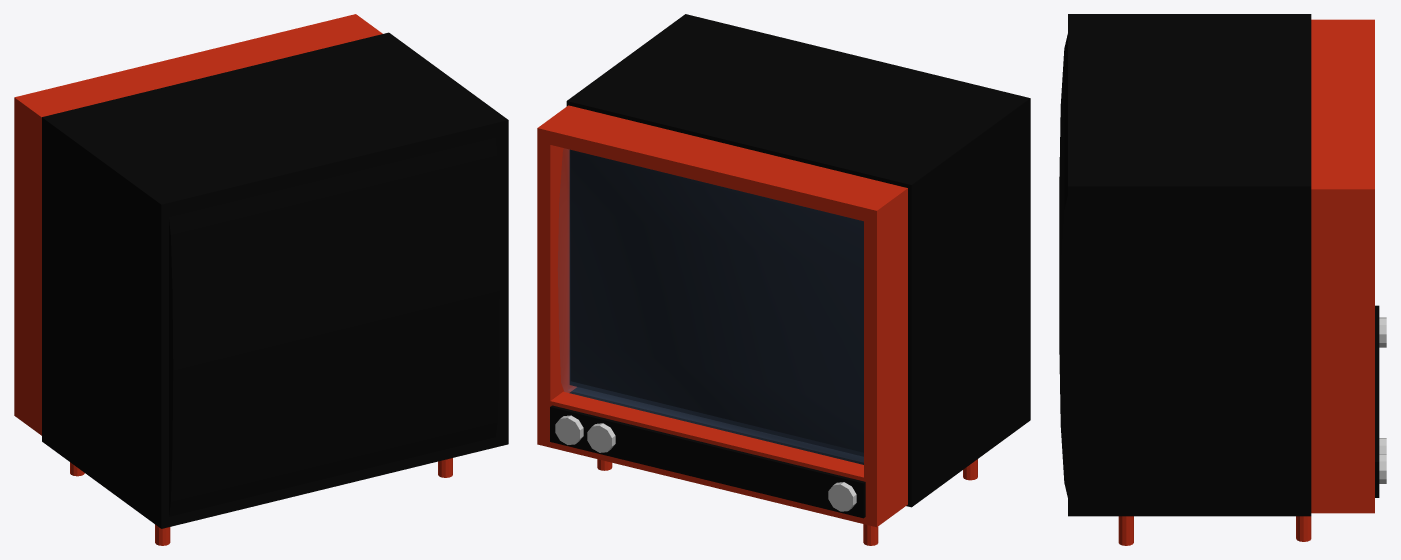
Rendered from OLD_TV.obj.
3 renders of one model, left to right at view 1: azimuth 30°, elevation 25°; view 2: azimuth 150°, elevation 25°; view 3: azimuth 270°, elevation 25°, orthographic. The views are drawn at different scales.
Parts seen in each view (by area): view 1: group693330270, group2129653897; view 2: group2129653897, group693330270, group970267179, group1626004127, Cylinder, Cylinder.002, Cylinder.001; view 3: group693330270, group2129653897, group970267179, group1131956557, group458220756.
Part boxes in pixels (left/top/right/bottom): group693330270: left=42, top=32, right=508, bottom=528; group2129653897: left=14, top=14, right=382, bottom=435; group2129653897: left=537, top=105, right=907, bottom=527; group693330270: left=566, top=14, right=1030, bottom=507; group970267179: left=550, top=387, right=865, bottom=518; group1626004127: left=558, top=149, right=863, bottom=464; Cylinder: left=555, top=415, right=583, bottom=444; Cylinder.002: left=828, top=482, right=856, bottom=511; Cylinder.001: left=587, top=423, right=615, bottom=452; group693330270: left=1059, top=14, right=1311, bottom=516; group2129653897: left=1311, top=19, right=1374, bottom=513; group970267179: left=1375, top=305, right=1379, bottom=497; group1131956557: left=1118, top=516, right=1133, bottom=545; group458220756: left=1296, top=516, right=1311, bottom=541.
Bounding box in the file's own units: 1.86 × 1.88 × 1.49.
